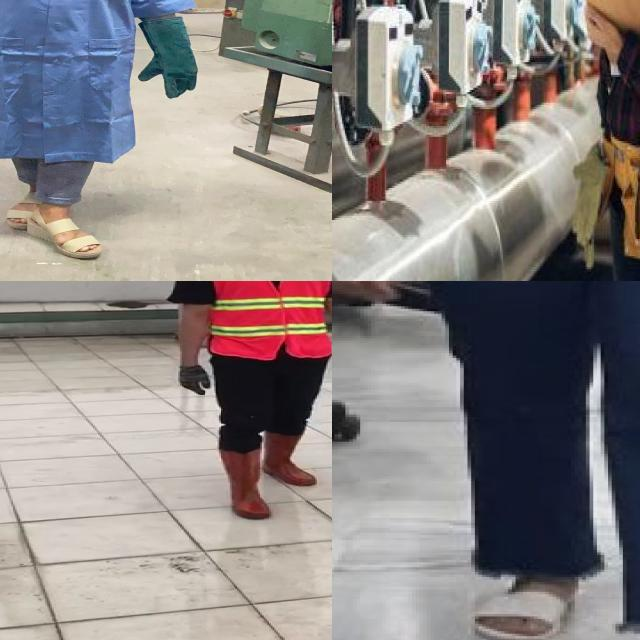Sandals: (458, 556, 588, 640)
boots: (216, 448, 274, 520), (262, 431, 319, 487)
hand_glove: (132, 40, 214, 99), (177, 365, 212, 395)
hand_noglove: (578, 4, 631, 62)
person: (0, 0, 230, 268), (575, 0, 640, 281)
vest: (205, 281, 332, 360)
